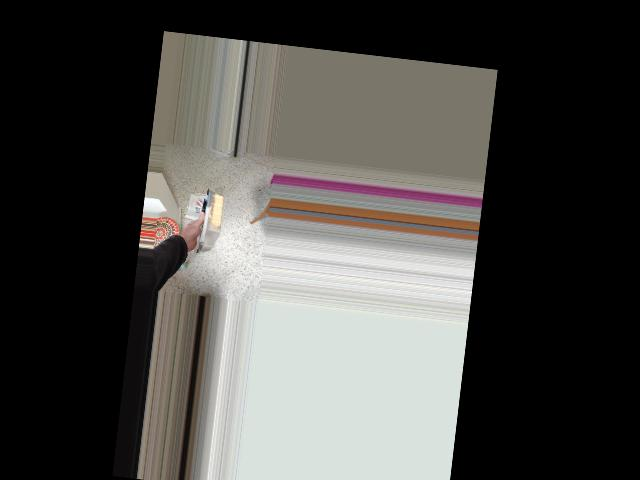cheese: (166, 191, 240, 267)
